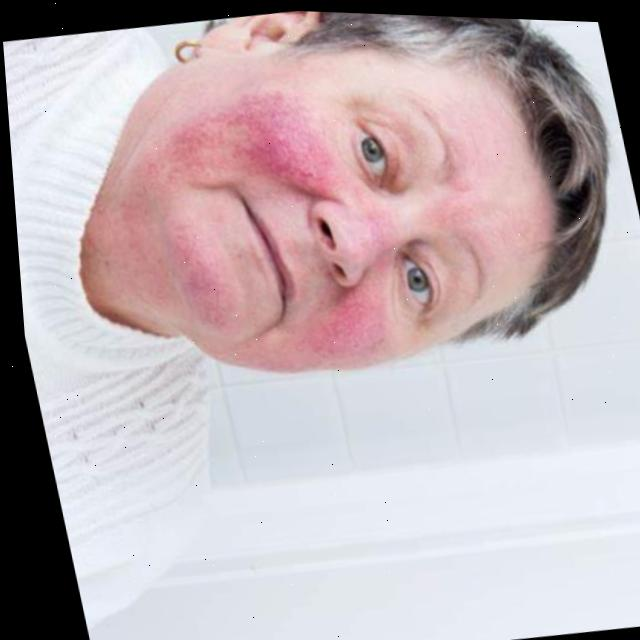Rosacea: (162, 85, 335, 207), (168, 228, 235, 347), (306, 280, 388, 363)
